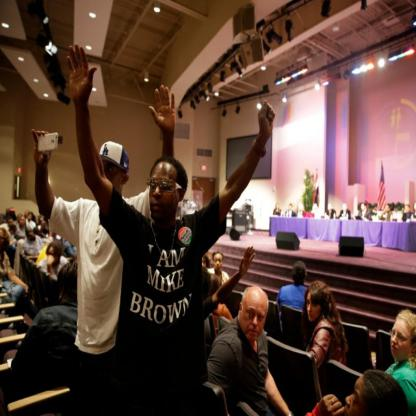face: (150, 165, 178, 221), (242, 296, 268, 341), (98, 162, 121, 198), (391, 320, 412, 358), (307, 295, 321, 322), (48, 247, 57, 262), (215, 255, 223, 270), (202, 258, 207, 269), (27, 230, 32, 238), (21, 218, 25, 226), (1, 231, 5, 239), (344, 204, 348, 211), (9, 220, 13, 226), (362, 205, 366, 211), (387, 205, 390, 213), (406, 206, 410, 212), (29, 214, 32, 221), (26, 211, 29, 218), (41, 216, 45, 221), (329, 205, 332, 211), (277, 204, 280, 209), (315, 205, 318, 210), (395, 207, 398, 212), (290, 206, 292, 211), (415, 202, 416, 210)
